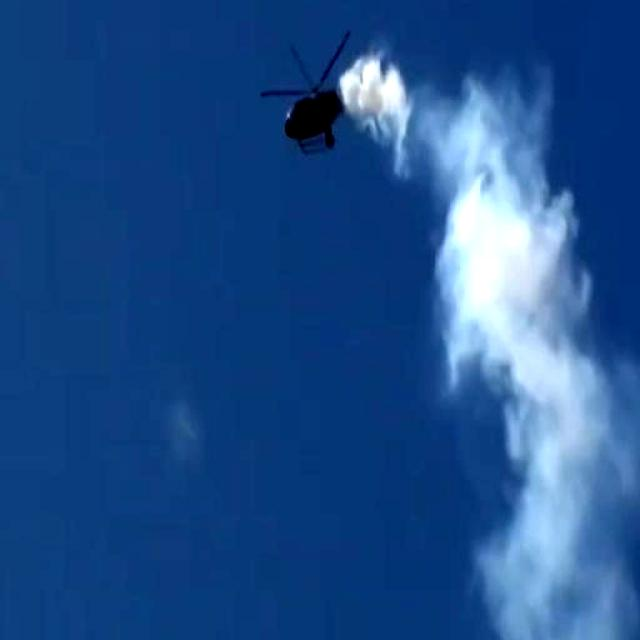drone: (261, 34, 378, 152)
